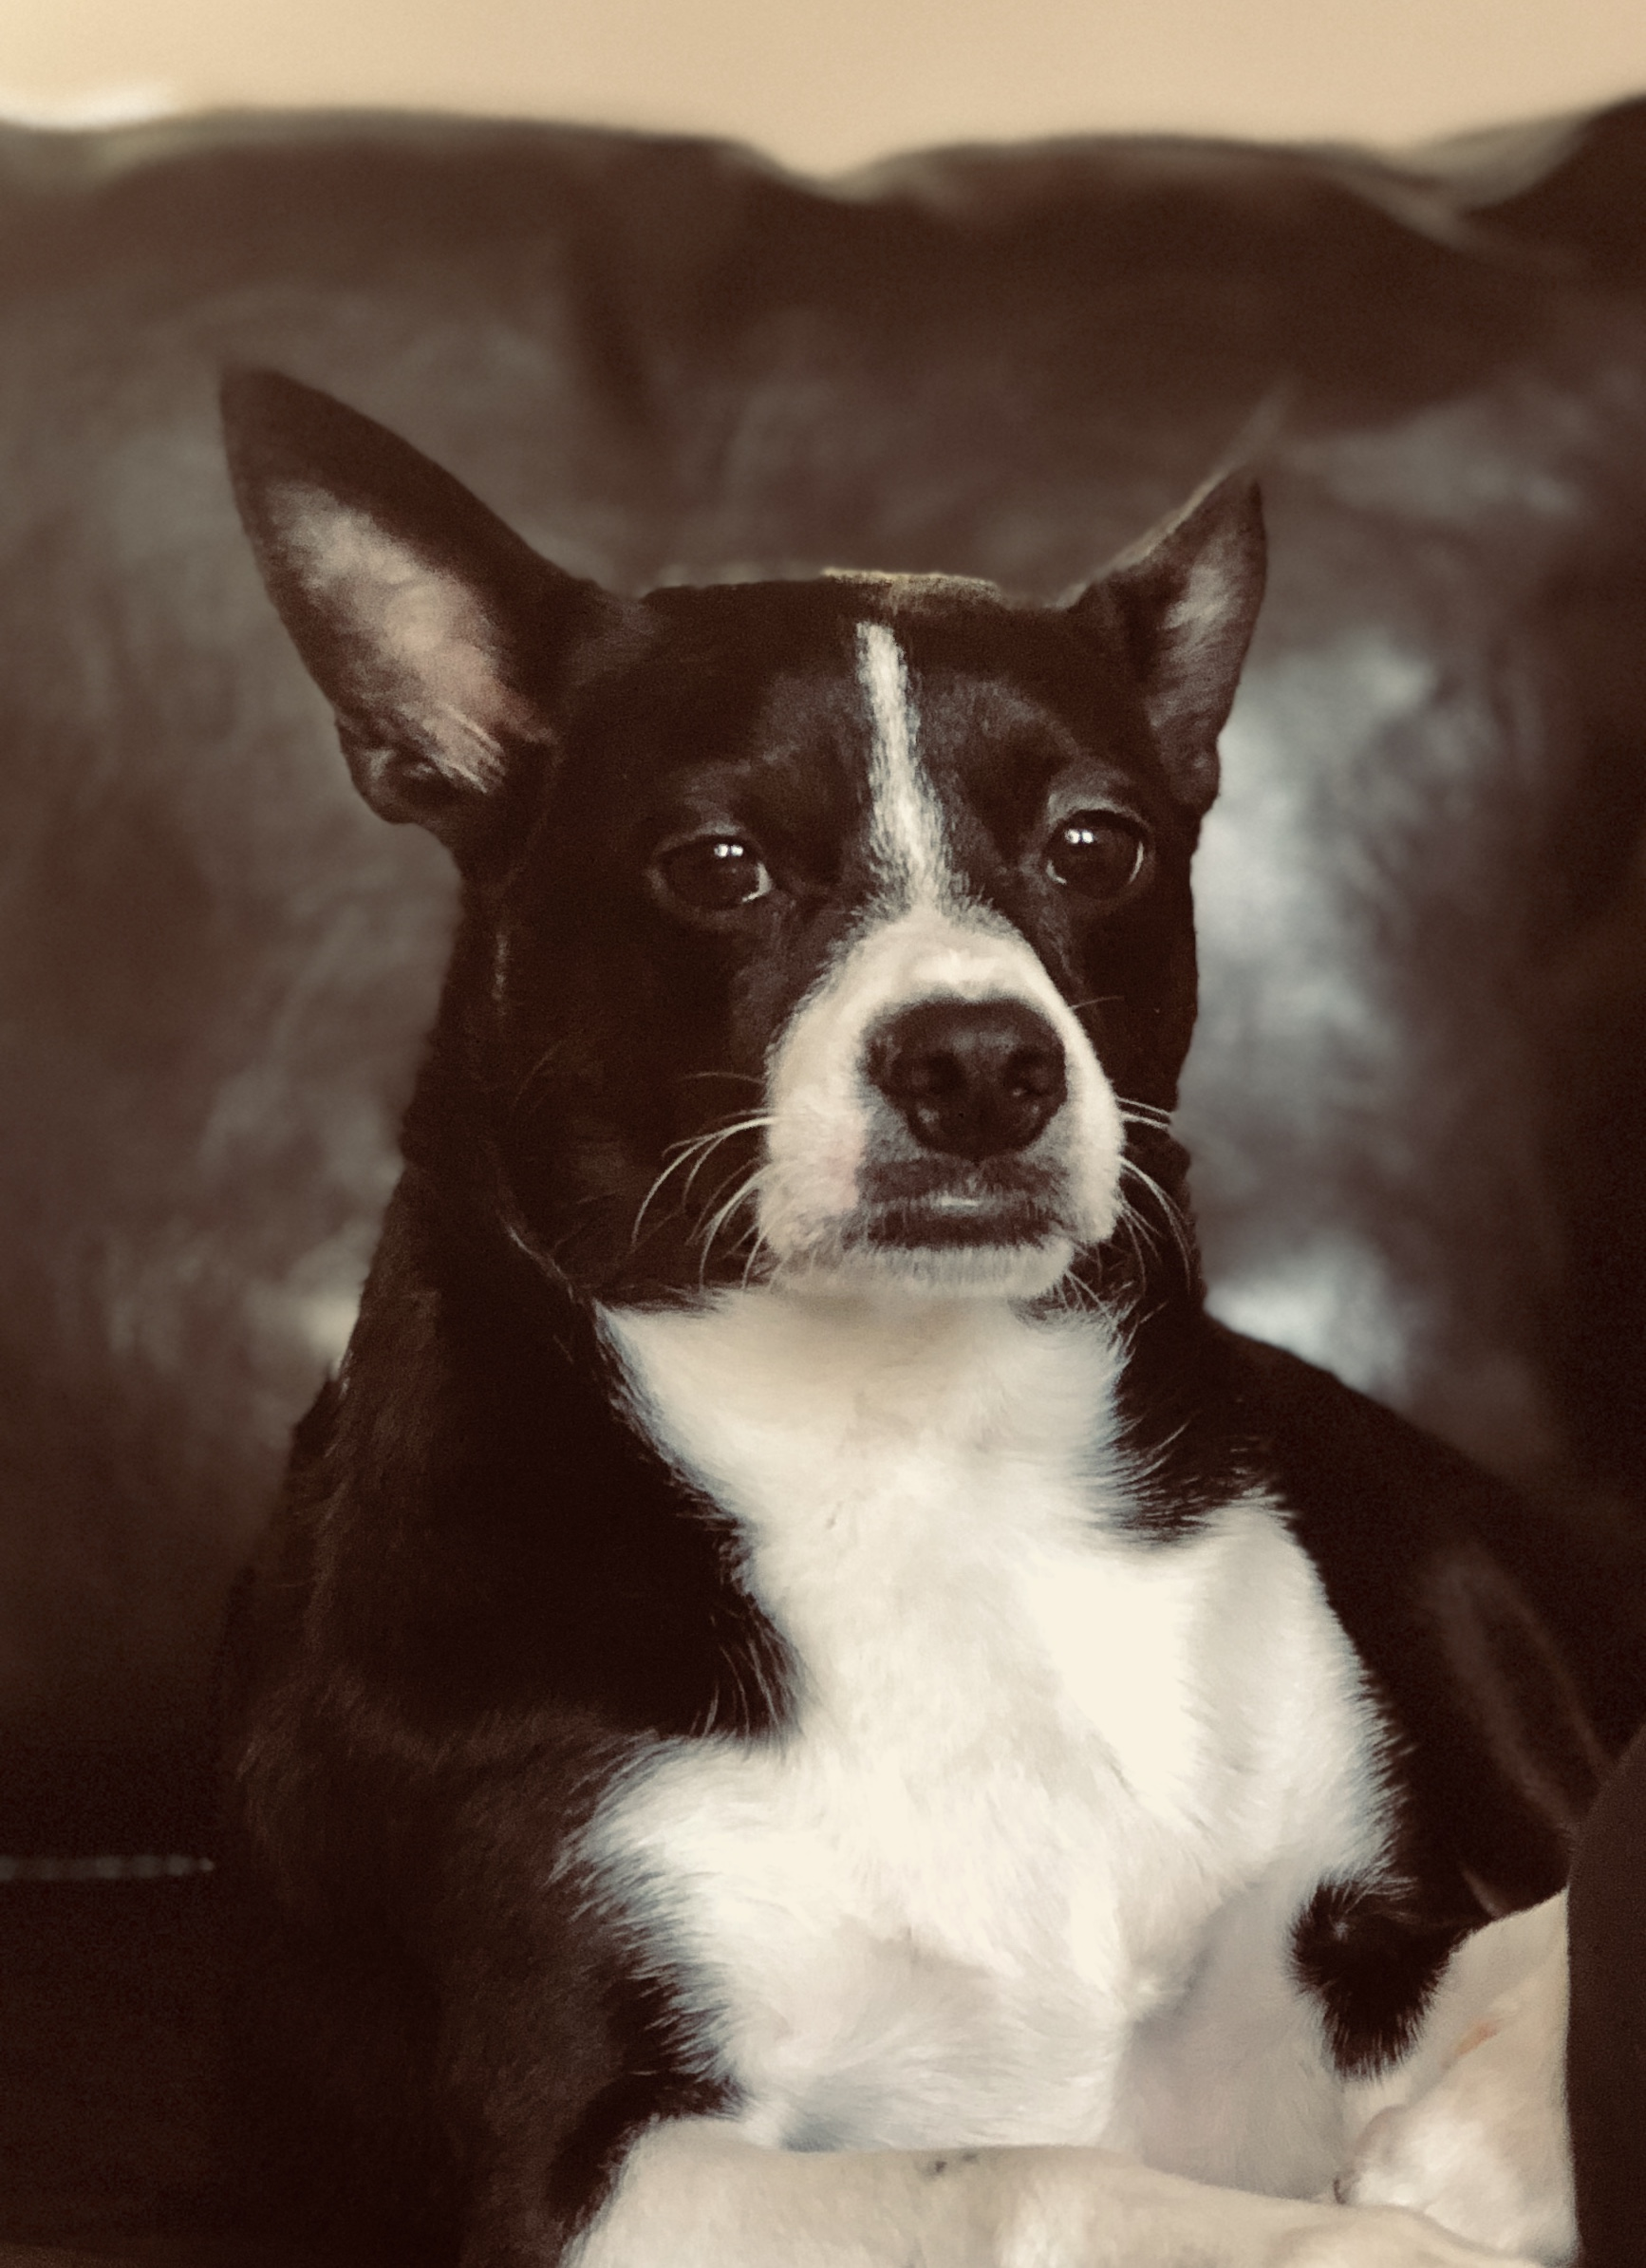Harley: (160, 306, 1614, 2247)
